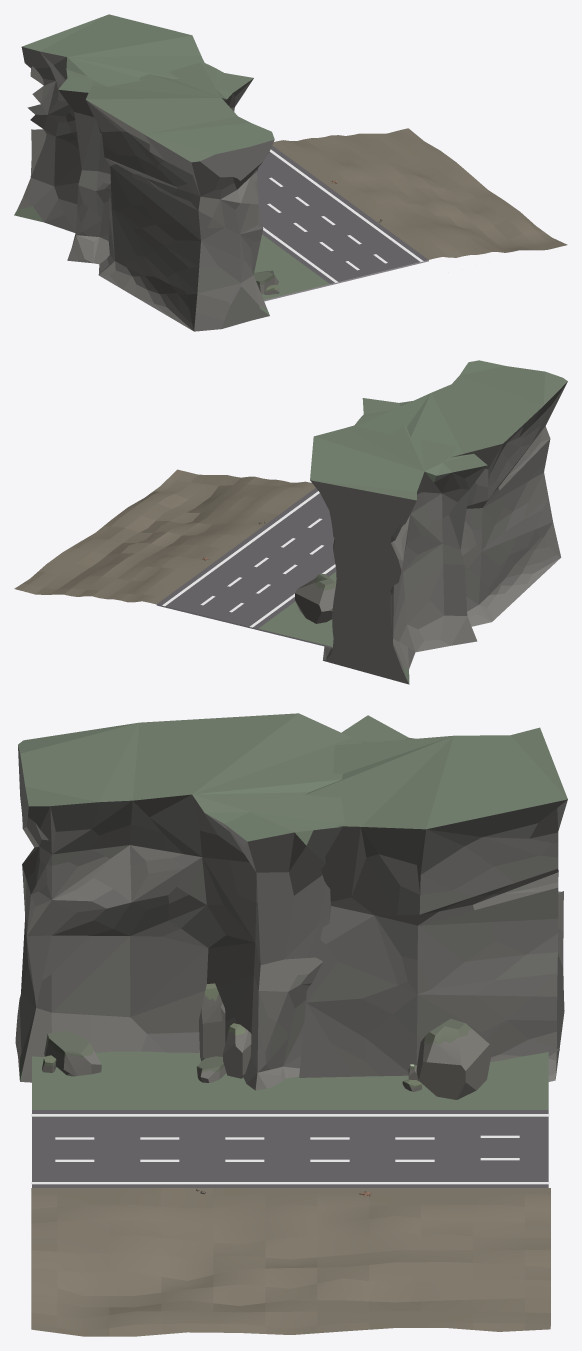
Rendered from HCR Background.fbx.
3 views of the same model, one above another, from view 1: azimuth 30°, elevation 25°; view 2: azimuth 150°, elevation 25°; view 3: azimuth 270°, elevation 25° (orthographic). The views are drawn at different scales.
Visible parts, largest first — view 1: polySurface12, pPlane1, polySurface1, polySurface3; view 2: polySurface12, pPlane1, polySurface1, pCube10, polySurface3; view 3: polySurface12, pPlane1, polySurface1, pCube10, polySurface3, pCube5, pCube6, pCube3.
Boxes of the visible parts, x1,y1,x2,y2 form: polySurface12: (14,14,274,331); pPlane1: (272,128,567,259); polySurface1: (254,145,428,301); polySurface3: (263,149,423,282); polySurface12: (310,360,567,684); pPlane1: (14,469,315,604); polySurface1: (156,488,336,648); pCube10: (295,574,335,623); polySurface3: (162,491,335,627); polySurface12: (15,713,567,1090); pPlane1: (31,1188,550,1336); polySurface1: (32,1051,548,1187); pCube10: (416,1018,492,1099); polySurface3: (31,1114,549,1184); pCube5: (44,1030,101,1076); pCube6: (199,983,225,1061); pCube3: (223,1023,251,1078).
Bounding box in the file's own units: 62.92 × 27.84 × 45.58.
